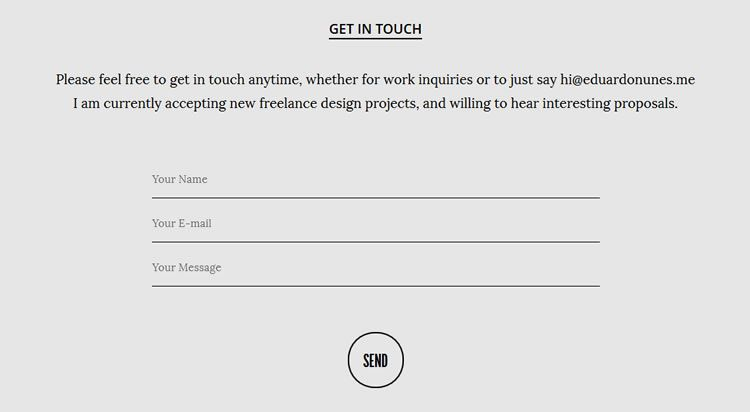_form_: (146, 50, 621, 412)
button: (348, 331, 404, 388)
field_line: (150, 170, 601, 200), (149, 215, 600, 244), (150, 261, 600, 288)
